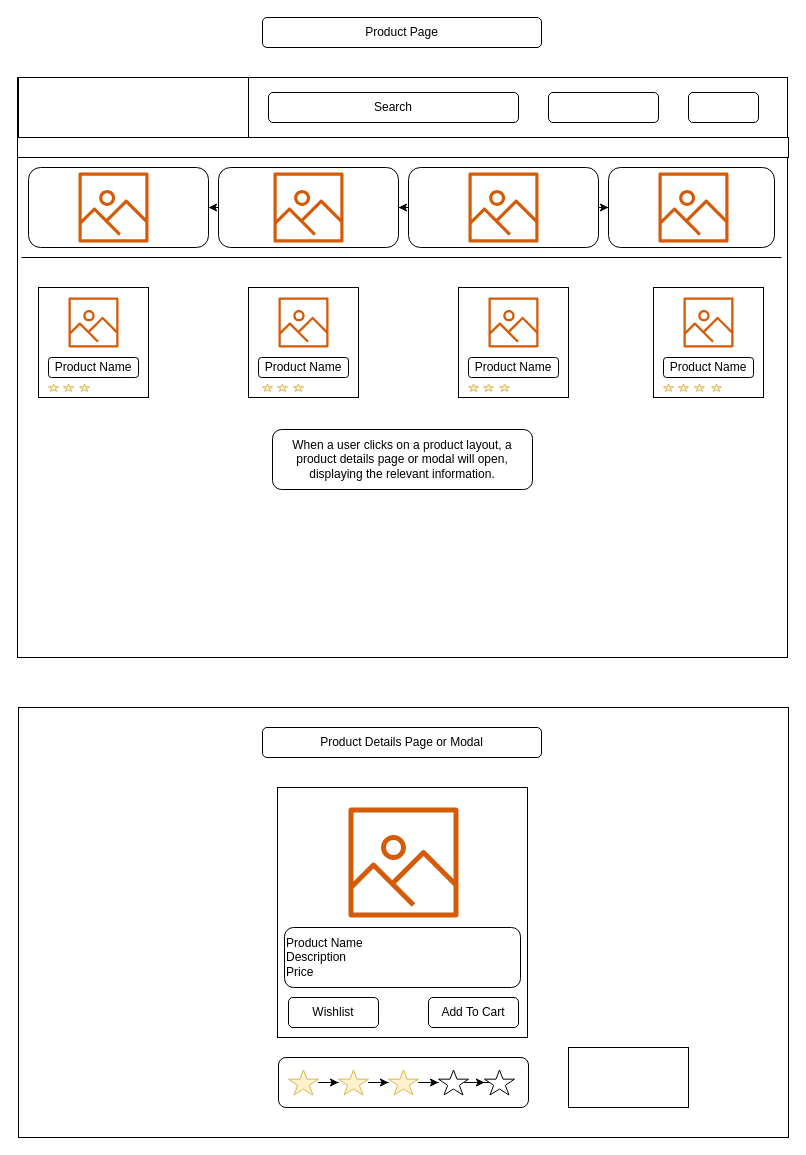
The diagram is 806 pixels wide and 1155 high, and some of its shapes have lost their labels. The centre of each missing label's shape, as x and y in pixels:
"Cart" belongs at point (723, 107).
"Ecommerce Name" belongs at point (133, 107).
"hardcode Image" belongs at point (402, 147).
"Here we can add ratings for product which will be display on Product Page" belongs at point (628, 1077).
"SignUp/SignIn" belongs at point (603, 107).
